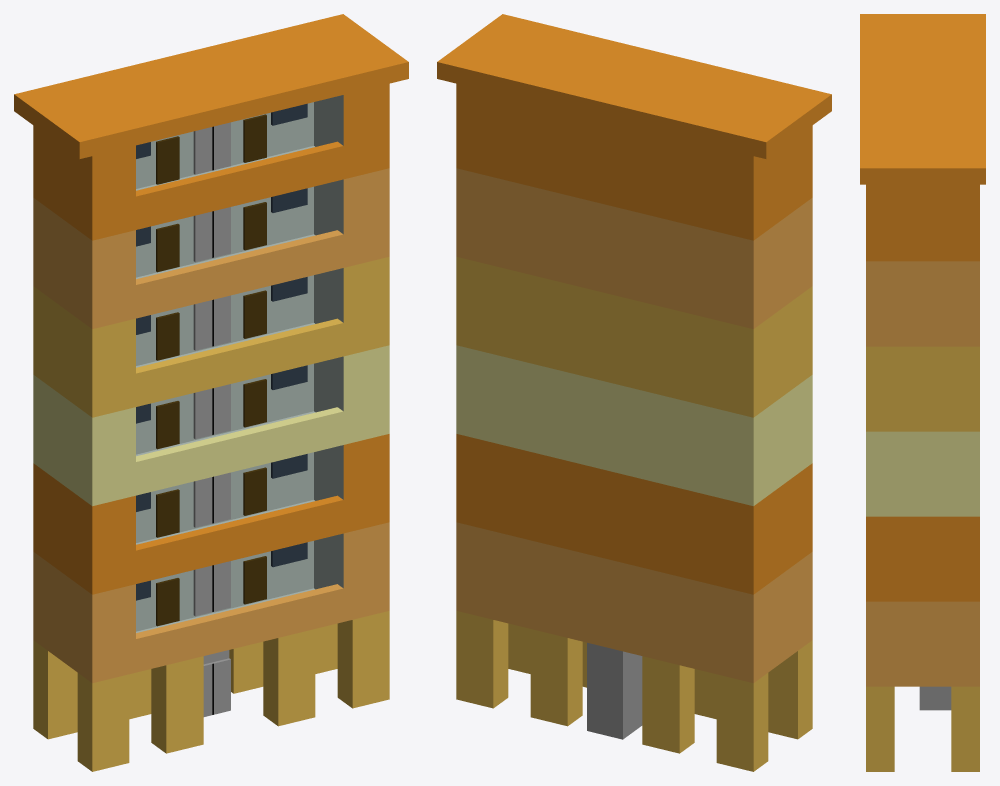
File: HDB_Orange.fbx
The picture shows the model from 3 angles, left to right: view 1: azimuth 30°, elevation 25°; view 2: azimuth 150°, elevation 25°; view 3: azimuth 270°, elevation 25°; orthographic projection. The views are drawn at different scales.
Parts seen in each view (by area): view 1: Buidling, Cube.007, Cube.002, Cube.013, Cube.010, Cube.016, Cube.003, Cube.019, Cube.012, Cube, Cube.006, Cube.015 (+8 smaller); view 2: Buidling, Cube.003; view 3: Buidling, Cube.003.
Part boxes in pixels (bbox=[...]): Buidling: bbox=[14, 14, 408, 771]; Cube.007: bbox=[193, 472, 230, 527]; Cube.002: bbox=[193, 561, 230, 616]; Cube.013: bbox=[193, 295, 230, 350]; Cube.010: bbox=[193, 384, 230, 439]; Cube.016: bbox=[193, 207, 230, 262]; Cube.003: bbox=[203, 650, 230, 716]; Cube.019: bbox=[193, 122, 230, 174]; Cube.012: bbox=[156, 312, 179, 360]; Cube: bbox=[243, 556, 266, 604]; Cube.006: bbox=[156, 489, 179, 537]; Cube.015: bbox=[156, 223, 179, 272]; Buidling: bbox=[437, 14, 831, 771]; Cube.003: bbox=[587, 642, 642, 739]; Buidling: bbox=[860, 14, 985, 771]; Cube.003: bbox=[919, 686, 951, 710].
Bounding box in the file's own units: 6422 × 11854 × 2214.
